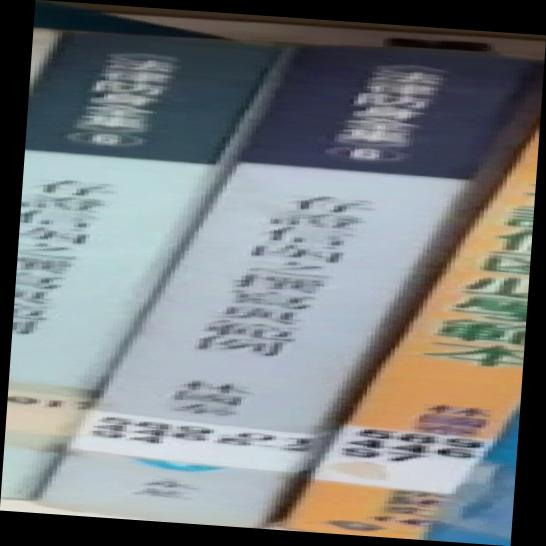book: (2, 1, 546, 546)
